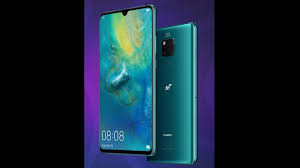huawei: (94, 4, 157, 155), (150, 18, 200, 168)
